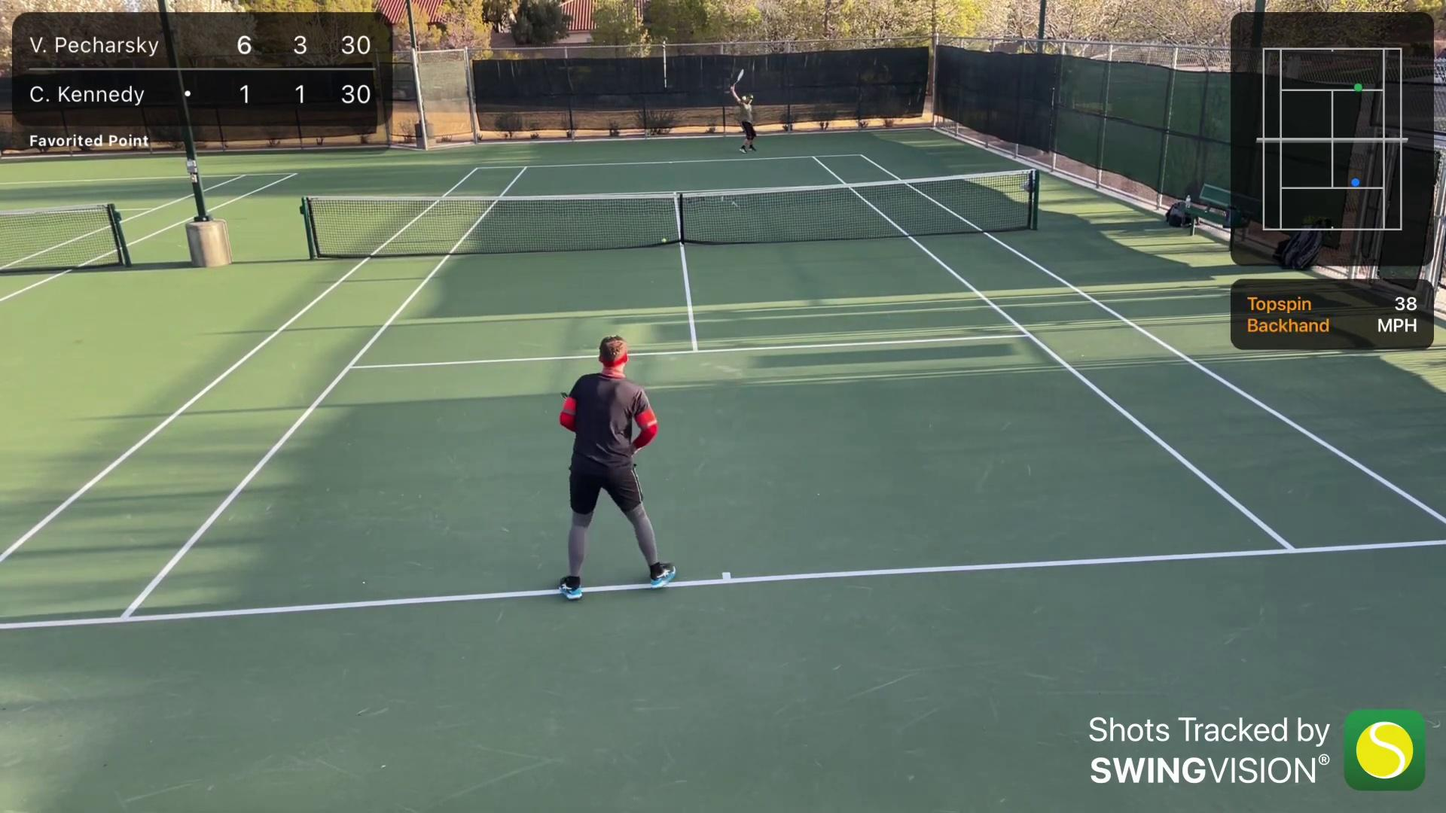ball: (659, 237, 668, 244), (741, 95, 747, 102)
